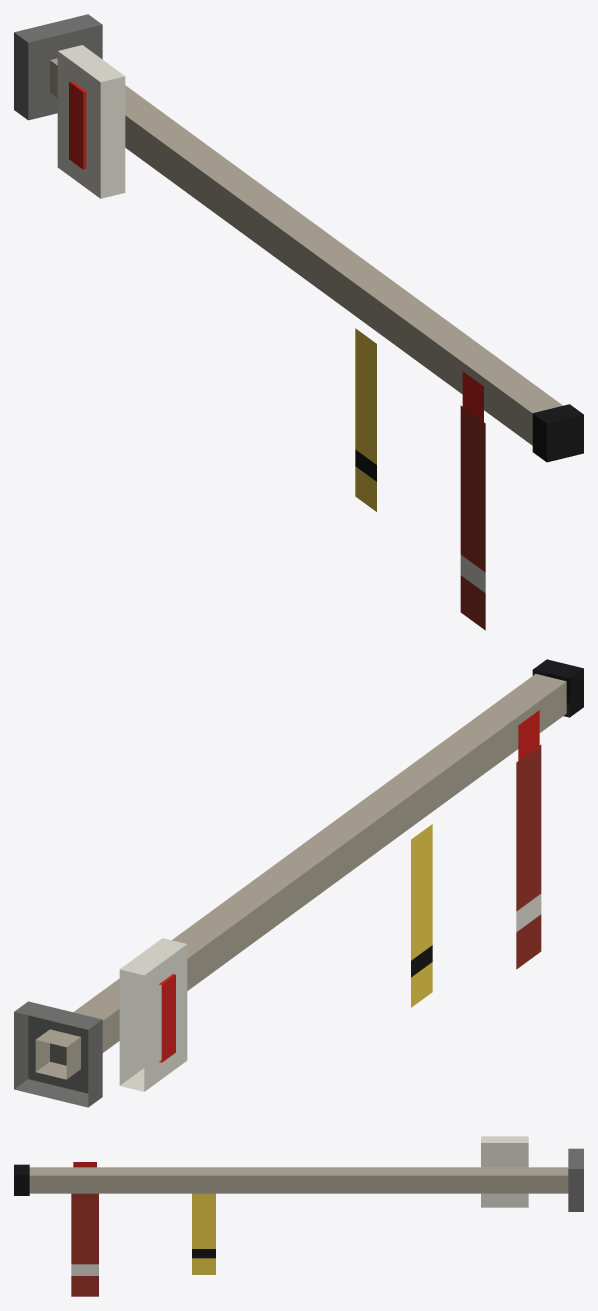
File: red.glb
3 views of the same model, one above another, from view 1: azimuth 30°, elevation 25°; view 2: azimuth 150°, elevation 25°; view 3: azimuth 270°, elevation 25° (orthographic). The views are drawn at different scales.
Parts seen in each view (by area): view 1: signal_semaphore_path_oneway_red; view 2: signal_semaphore_path_oneway_red; view 3: signal_semaphore_path_oneway_red.
Part boxes in pixels (x1,y1,x2,y2): signal_semaphore_path_oneway_red: (14, 14, 583, 630); signal_semaphore_path_oneway_red: (14, 659, 583, 1107); signal_semaphore_path_oneway_red: (14, 1136, 583, 1296).
Bounding box in the file's own units: 1.35 × 4.35 × 14.4.
